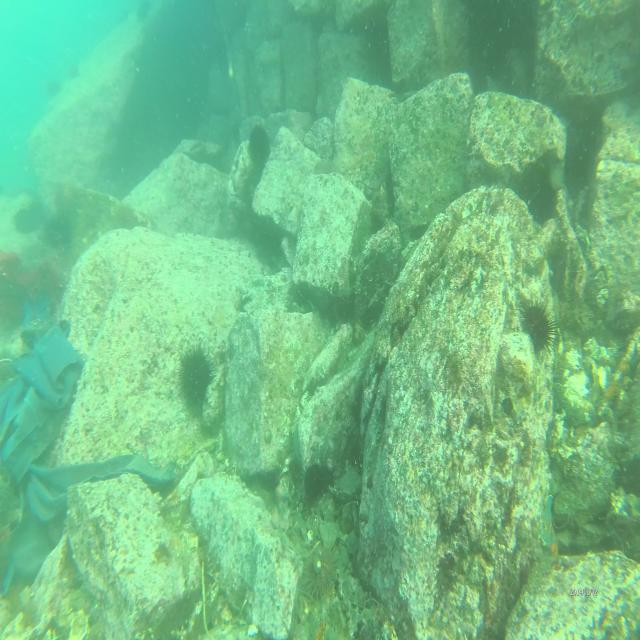echinus: (175, 344, 213, 413), (518, 296, 557, 360), (303, 539, 339, 598), (304, 461, 331, 503), (247, 120, 270, 167)
starfish: (536, 494, 565, 562)
